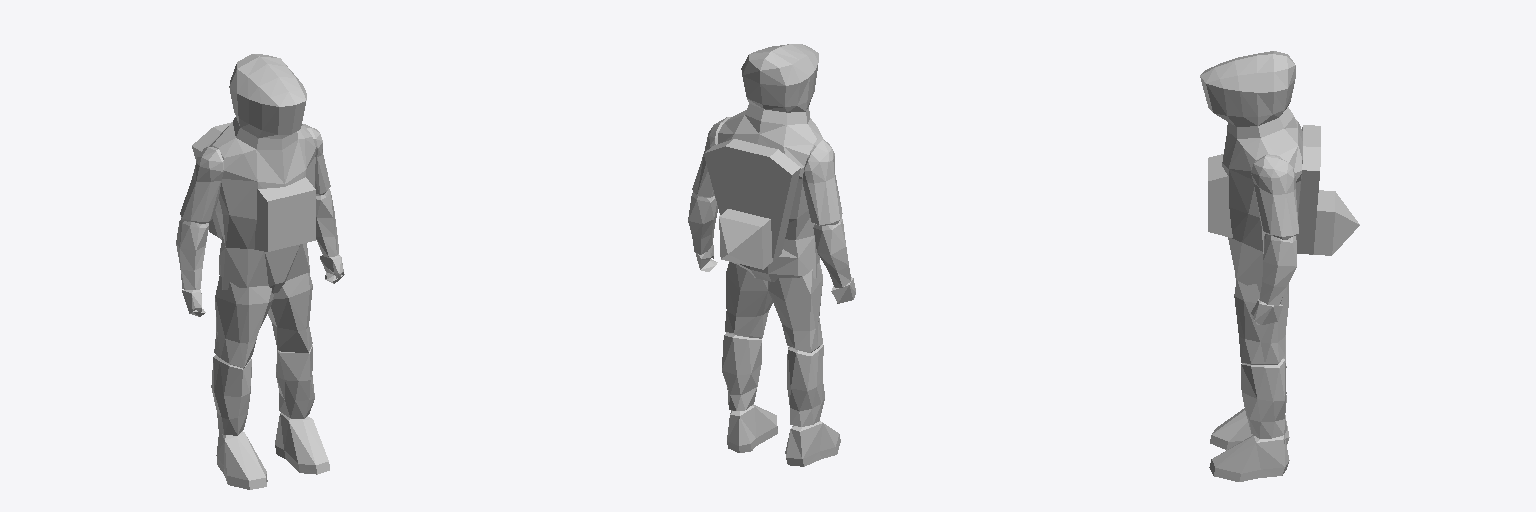
Rendered from playerIdle.obj.
The picture shows the model from 3 angles: view 1: azimuth 30°, elevation 25°; view 2: azimuth 150°, elevation 25°; view 3: azimuth 270°, elevation 25°; orthographic projection.
Visible parts, largest first — view 1: Torso Person, Torso Person pCube38, Torso Person RightLeg, Torso Person LeftLeg, Torso Person RightLeg LowerLeg, Torso Person LeftLeg LowerLeg Foot, Torso Person LeftLeg LowerLeg, Torso Person RightArm, Torso Person RightLeg LowerLeg Foot, Torso Person RightArm LowerArm, Torso Person LeftArm LowerArm, Torso Person LeftArm (+1 smaller); view 2: Torso Person, Torso Person pCylinder11, Torso Person RightLeg, Torso Person LeftLeg, Torso Person RightLeg LowerLeg, Torso Person LeftLeg LowerLeg, Torso Person RightArm, Torso Person RightLeg LowerLeg Foot, Torso Person LeftLeg LowerLeg Foot, Torso Person RightArm LowerArm, Torso Person LeftArm LowerArm, Torso Person LeftArm; view 3: Torso Person, Torso Person pCylinder11, Torso Person LeftArm, Torso Person LeftLeg LowerLeg, Torso Person LeftLeg, Torso Person LeftLeg LowerLeg Foot, Torso Person LeftArm LowerArm, Torso Person pCube38, Torso Person RightLeg LowerLeg Foot, Torso Person LeftArm LowerArm Hand.
Part boxes in pixels (x1,y1,x2,y2): Torso Person: (209,54,315,293); Torso Person pCube38: (255,177,315,251); Torso Person RightLeg: (214,276,273,368); Torso Person LeftLeg: (268,273,312,352); Torso Person RightLeg LowerLeg: (211,355,251,435); Torso Person LeftLeg LowerLeg Foot: (275,413,329,474); Torso Person LeftLeg LowerLeg: (276,345,314,418); Torso Person RightArm: (180,147,223,223); Torso Person RightLeg LowerLeg Foot: (216,431,267,489); Torso Person RightArm LowerArm: (176,218,208,289); Torso Person LeftArm LowerArm: (316,189,338,257); Torso Person LeftArm: (302,124,330,195); Torso Person: (718,44,824,281); Torso Person pCylinder11: (704,139,800,269); Torso Person RightLeg: (768,260,822,352); Torso Person LeftLeg: (725,262,772,338); Torso Person RightLeg LowerLeg: (787,344,824,426); Torso Person LeftLeg LowerLeg: (722,333,761,410); Torso Person RightArm: (803,139,842,226); Torso Person RightLeg LowerLeg Foot: (785,421,840,466); Torso Person LeftLeg LowerLeg Foot: (727,404,777,452); Torso Person RightArm LowerArm: (813,217,850,287); Torso Person LeftArm LowerArm: (688,191,717,254); Torso Person LeftArm: (692,117,730,197); Torso Person: (1200,51,1302,292); Torso Person pCylinder11: (1296,125,1359,255); Torso Person LeftArm: (1251,155,1298,239); Torso Person LeftLeg LowerLeg: (1241,358,1286,438); Torso Person LeftLeg: (1234,280,1288,364); Torso Person LeftLeg LowerLeg Foot: (1209,435,1289,481); Torso Person LeftArm LowerArm: (1259,234,1296,305); Torso Person pCube38: (1208,154,1232,237); Torso Person RightLeg LowerLeg Foot: (1210,408,1289,449); Torso Person LeftArm LowerArm Hand: (1251,299,1282,324).
Bounding box in the file's own units: 2.21 × 5.46 × 1.97.